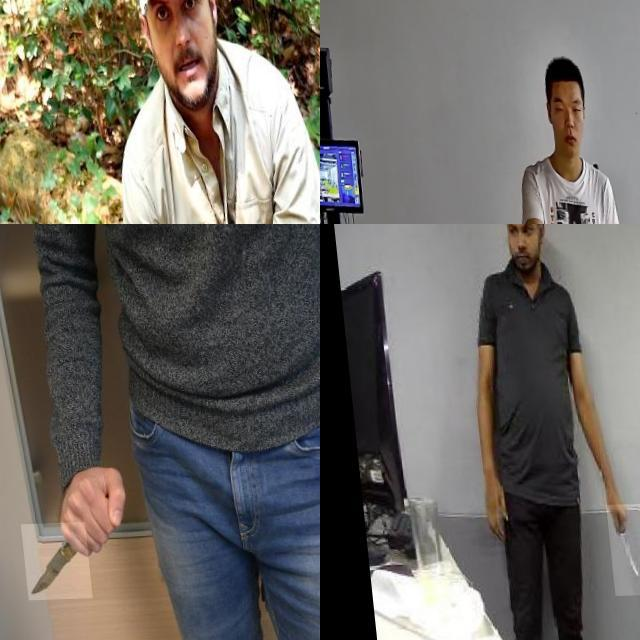-: (12, 524, 84, 602), (596, 506, 638, 598)
